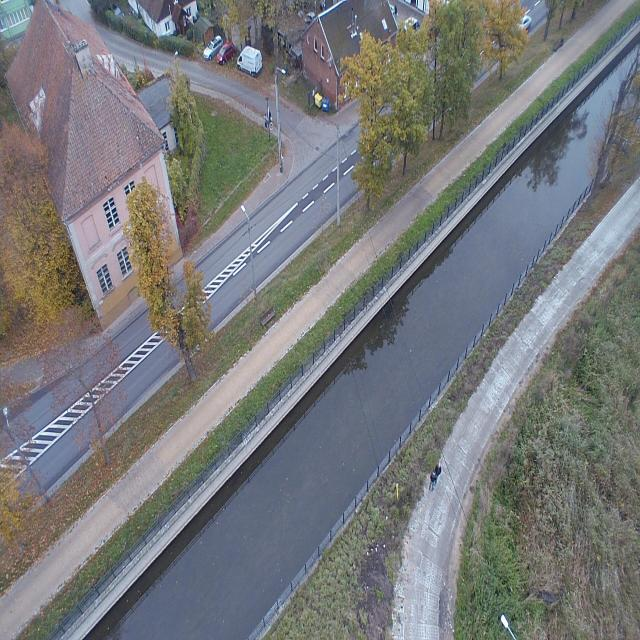p3rson: (429, 469, 437, 492), (436, 462, 442, 484), (264, 113, 268, 128)
